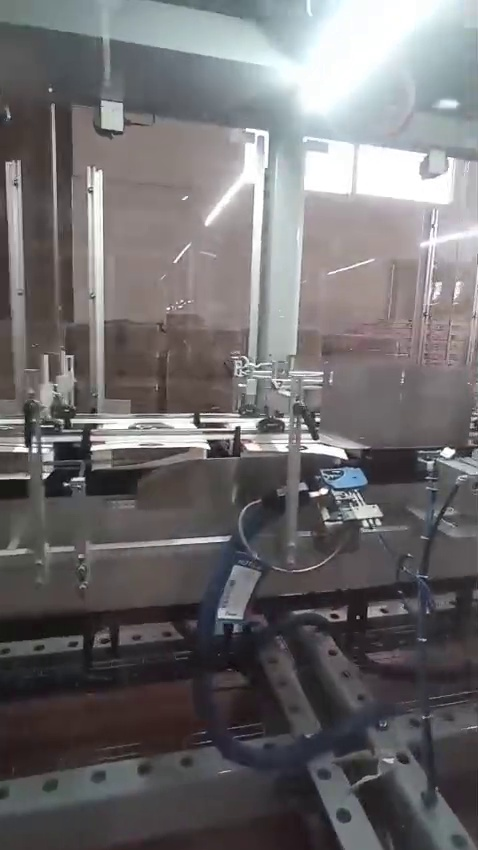savon: (0, 128, 48, 176), (34, 290, 54, 320), (0, 340, 12, 379), (60, 288, 73, 319), (106, 353, 122, 369), (146, 480, 160, 496)
